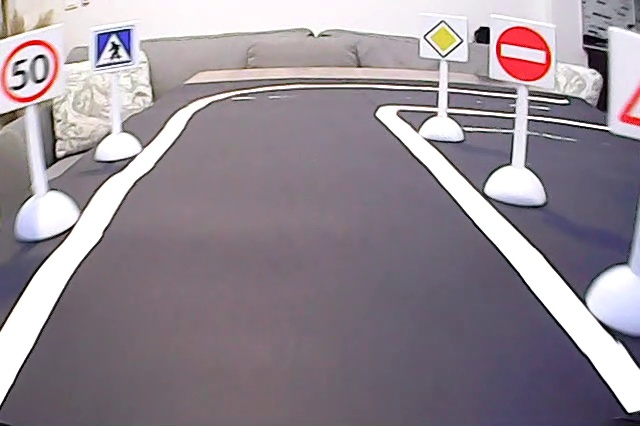do not enter: (490, 18, 552, 85)
pedestrian crossing: (95, 28, 135, 68)
speed limit 50: (3, 39, 61, 104)
